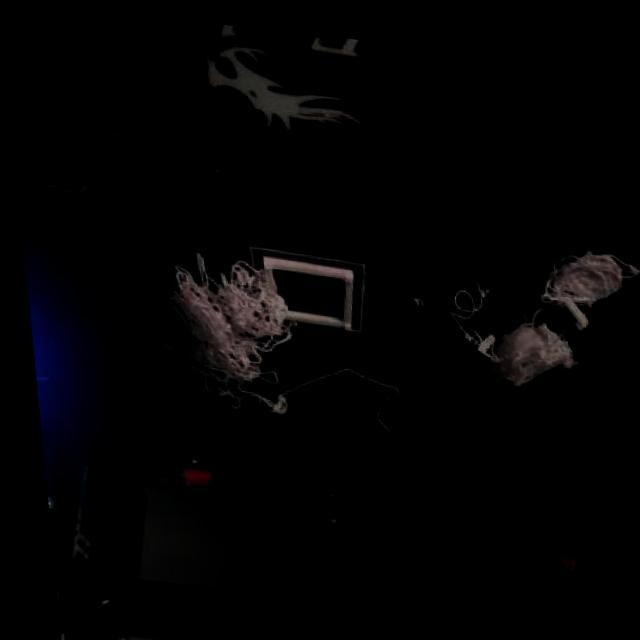spaghetti: (149, 245, 298, 412), (490, 290, 576, 384), (532, 232, 640, 302), (294, 355, 396, 426), (442, 268, 497, 353)
